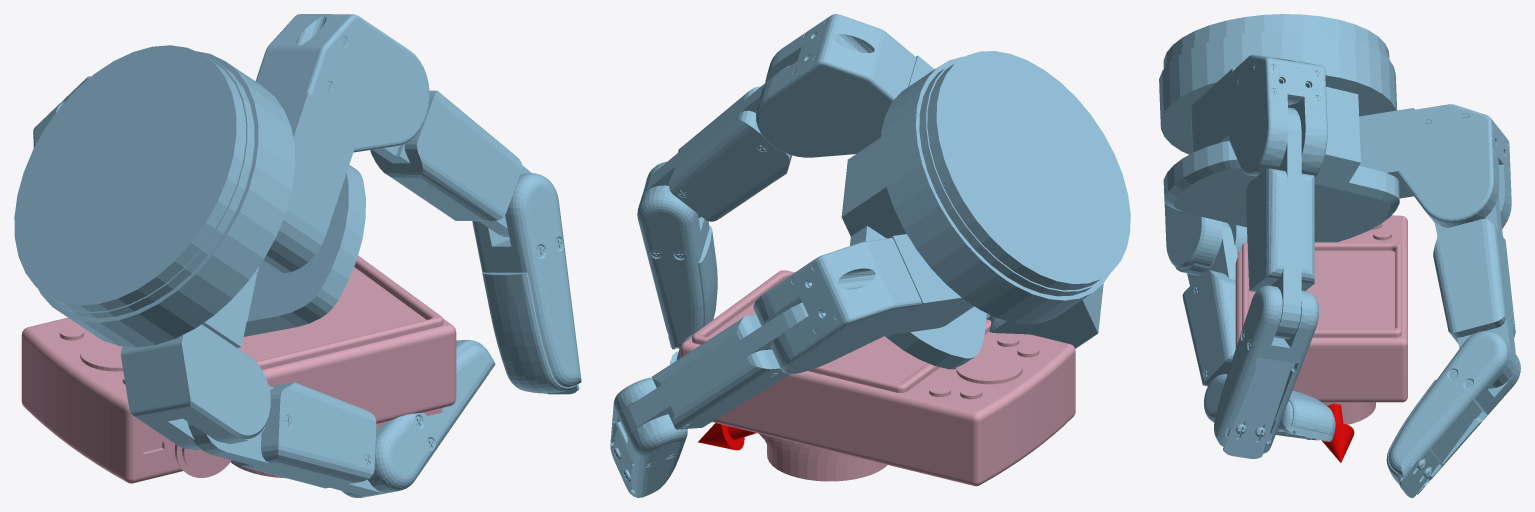
3 renders of one model, left to right at view 1: azimuth 30°, elevation 25°; view 2: azimuth 150°, elevation 25°; view 3: azimuth 270°, elevation 25°, orthographic. The views are drawn at different scales.
Visible parts, largest first — view 1: world, camera.stl; view 2: world, camera.stl; view 3: world, camera.stl.
Part boxes in pixels (x1,y1,x2,y2): world: (14, 14, 581, 497); camera.stl: (21, 255, 456, 483); world: (610, 14, 1130, 497); camera.stl: (680, 270, 1075, 486); world: (1159, 14, 1520, 497); camera.stl: (1235, 215, 1407, 424).
Bounding box in the file's own units: 0.1739 × 0.1606 × 0.1358.
